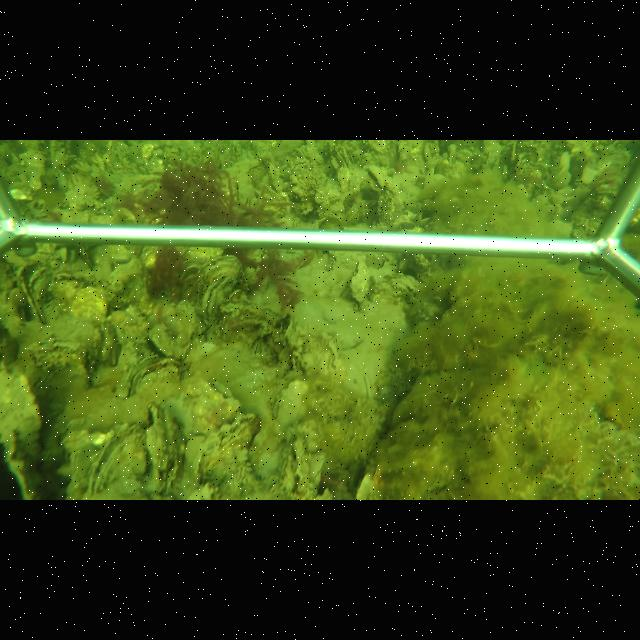Oyster-Closed: (353, 419, 468, 496), (386, 369, 475, 426), (200, 414, 258, 486), (86, 426, 145, 495), (145, 403, 178, 493), (199, 254, 242, 316), (131, 356, 182, 399), (20, 263, 50, 324), (349, 258, 371, 307)
Oyster-Open: (179, 264, 201, 295), (365, 165, 390, 192)
